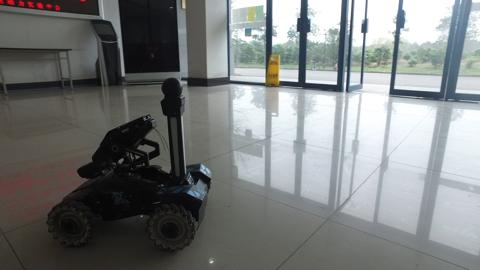chariot: (38, 74, 220, 255)
